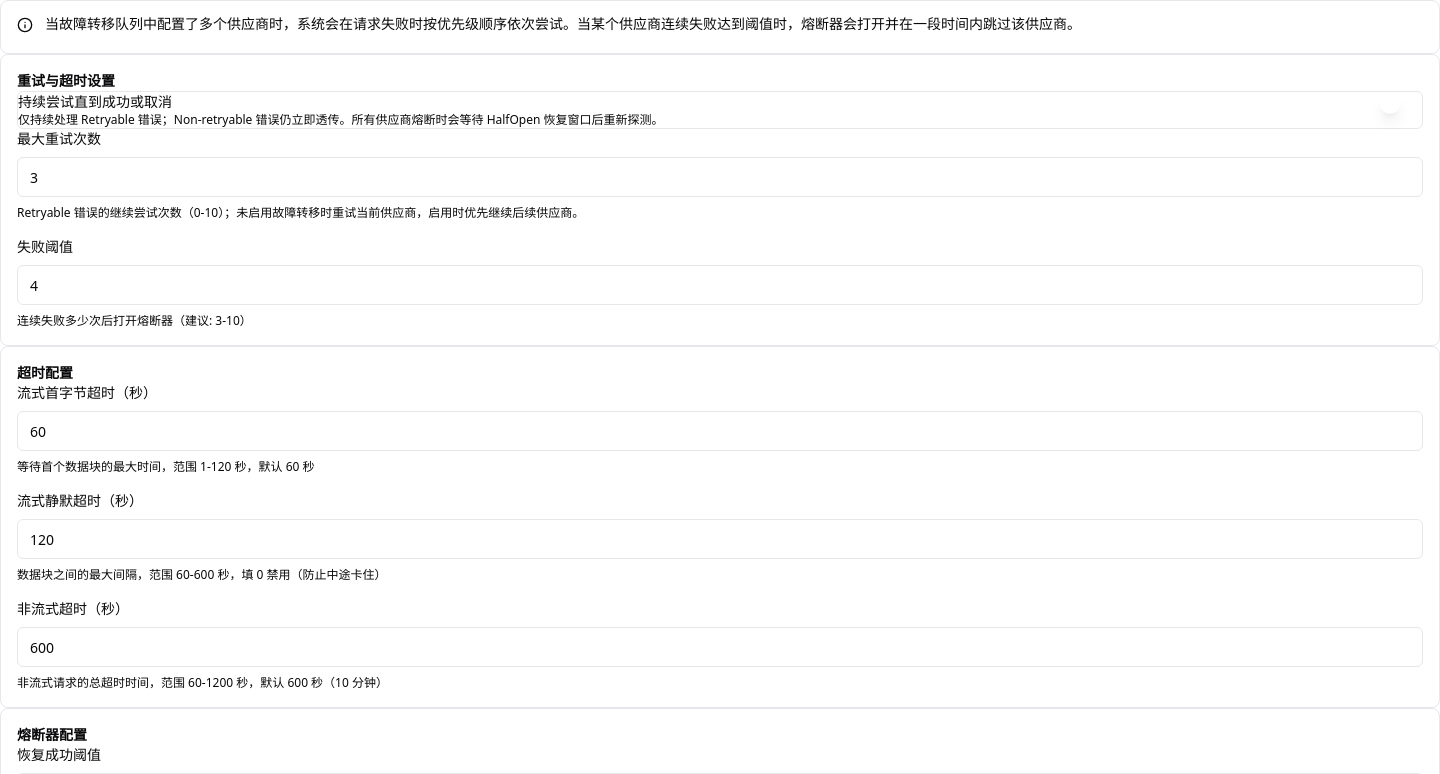
Scenario: AutoFailoverConfigPanel › persists continuous retry and disables the finite retry count while enabled
expect the switch named "持续尝试直到成功或取消" is not checked: met, box [1378,92,1422,116]
Clear the number field labelled "最大重试次数": coordinates (720, 177) [17,157,1423,197]
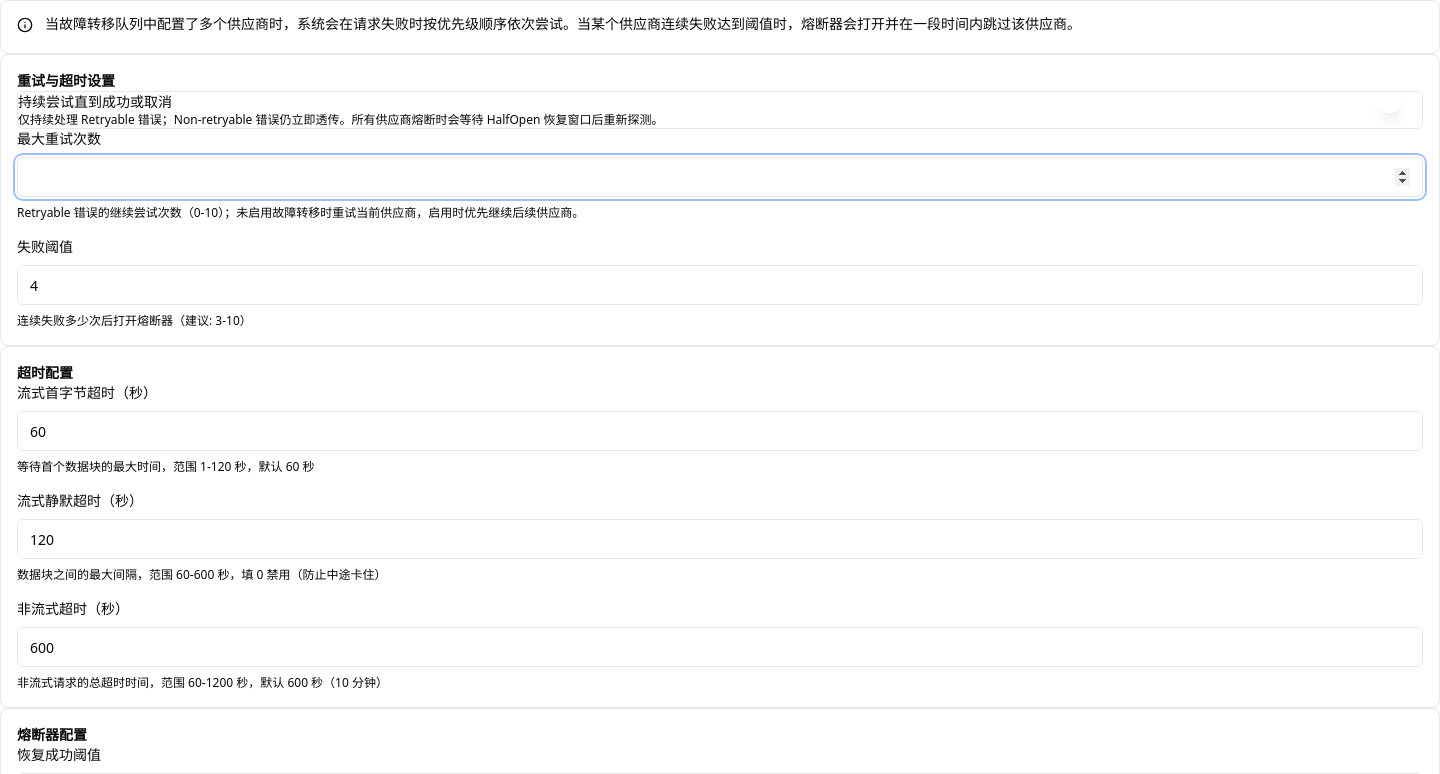
Click the switch named "持续尝试直到成功或取消": coordinates (1400, 104) [1378,92,1422,116]
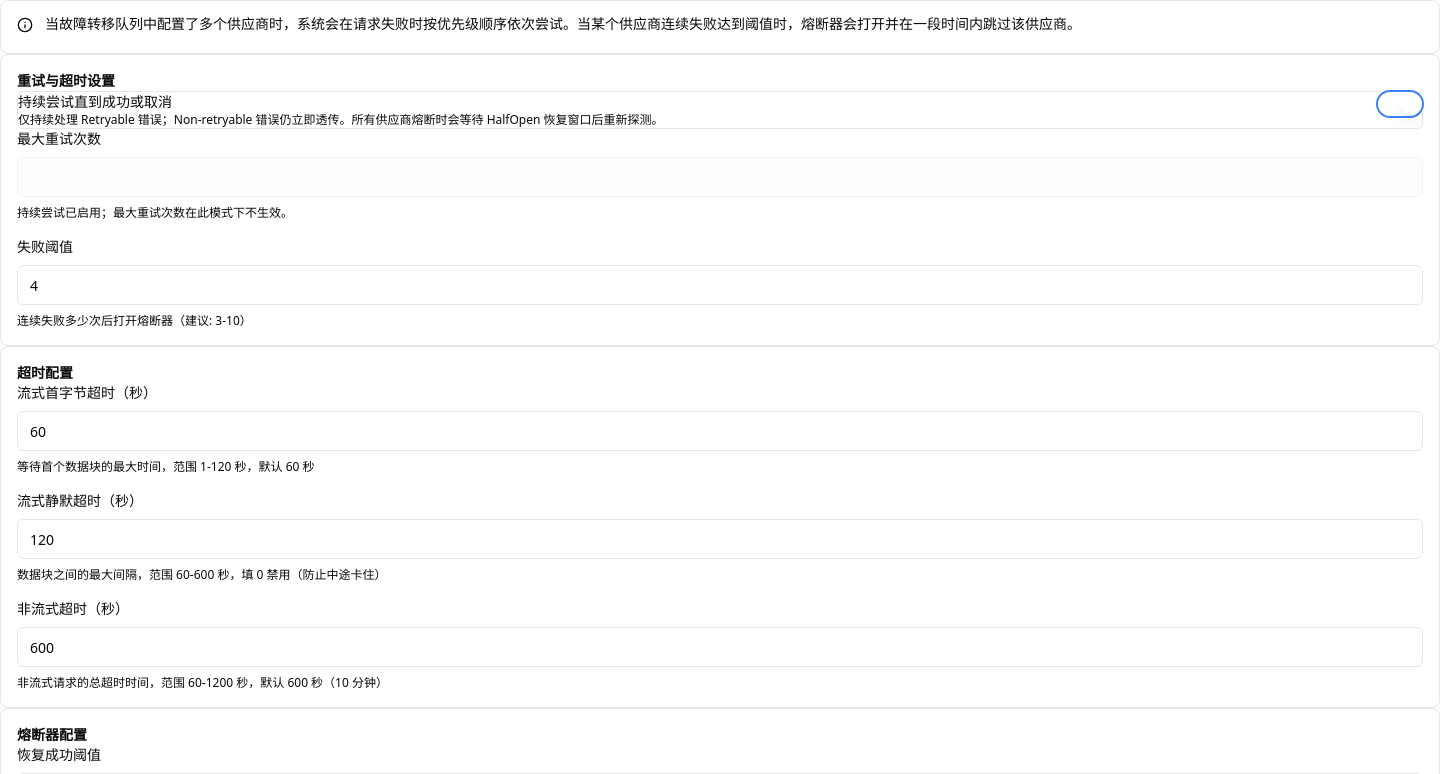
expect the switch named "持续尝试直到成功或取消" is checked: met, box [1378,92,1422,116]
expect the text "持续尝试已启用；最大重试次数在此模式下不生效。" is shown: met, box [17,204,293,221]
